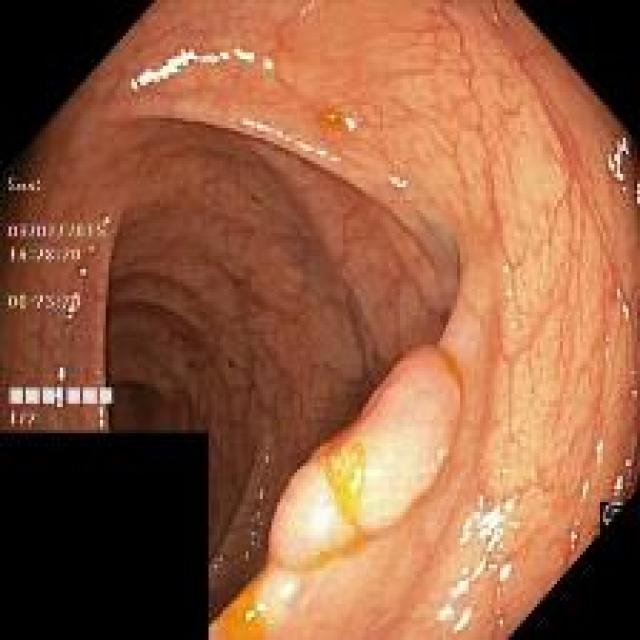Polyps: (262, 347, 460, 579)
